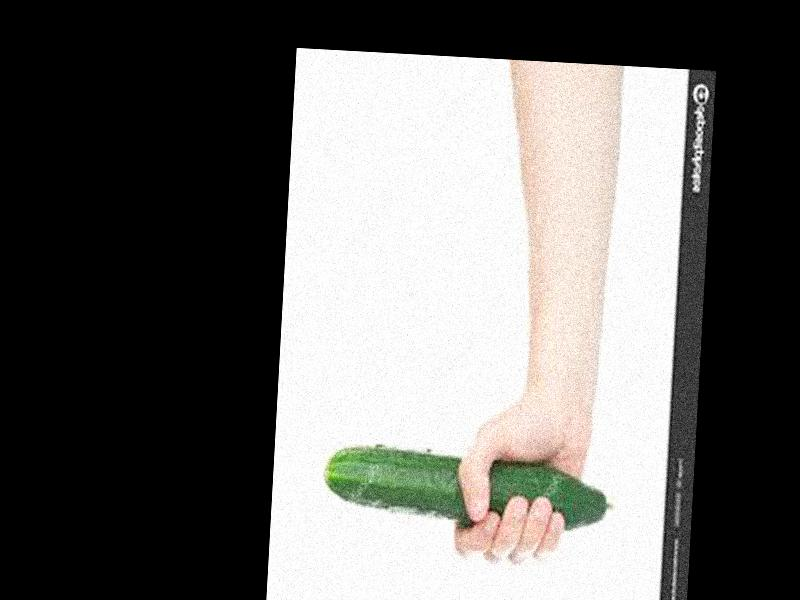Cucumber: (322, 444, 614, 533)
